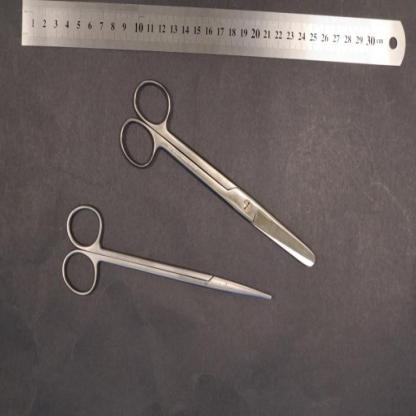7 Metzenbaum Scissors: (61, 202, 272, 300)
Dressing Scissors: (118, 76, 316, 269)
